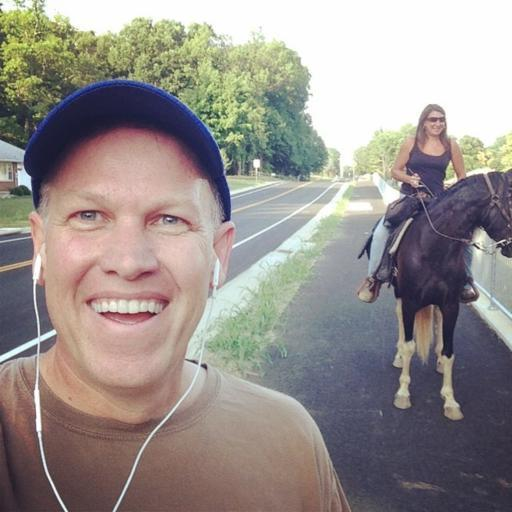horse: (366, 170, 512, 424)
